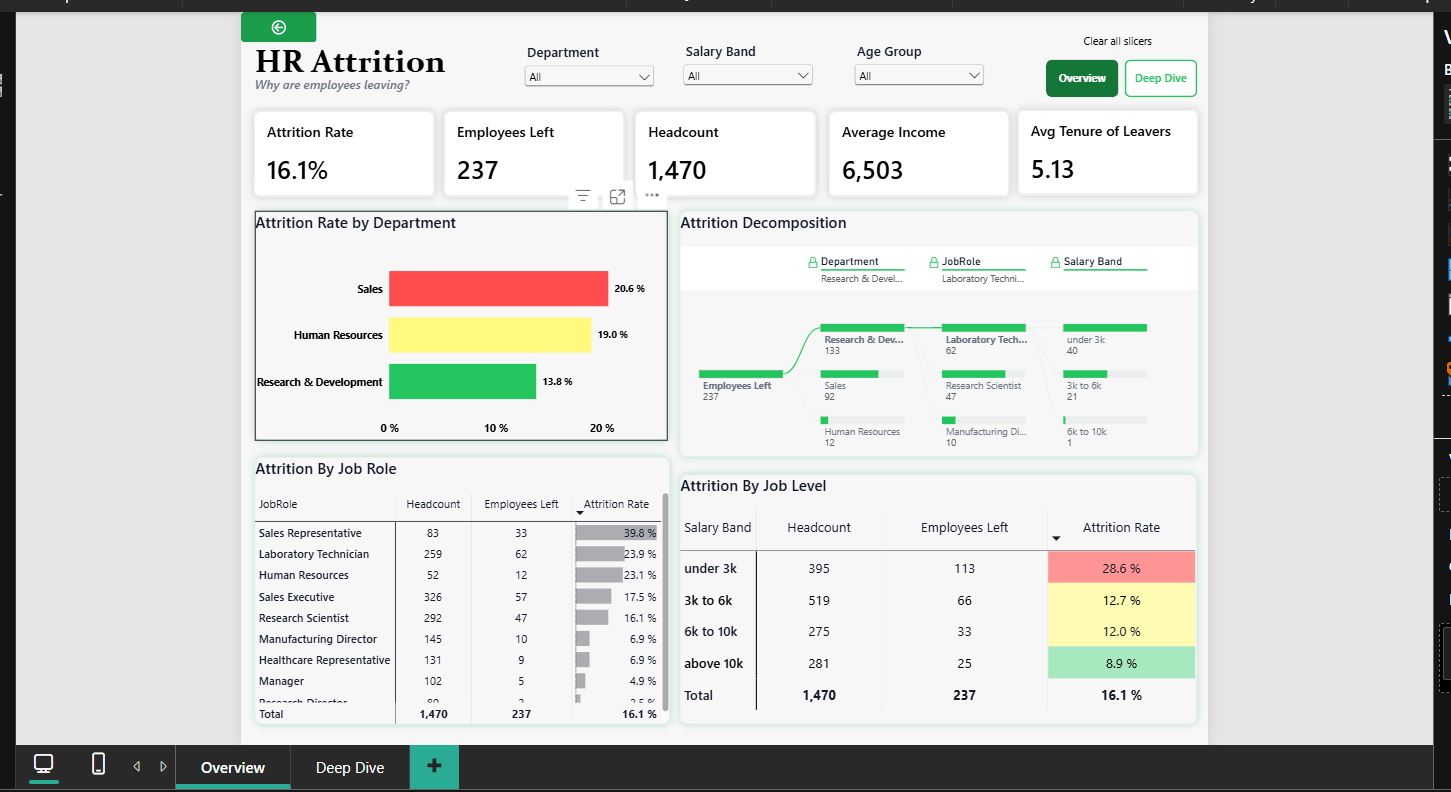

What the dashboard file says about the page in this screenshot:
{"tool":"powerbi","page":{"name":"Overview","canvas":[1280,970],"ordinal":0},"visuals":[{"type":"textbox","box":[18,38,326,70],"z":0},{"type":"textbox","box":[18.4,84.4,279,150],"z":1000},{"type":"slicer","fields":{"Values":["HR_employees.Salary Band"]},"box":[580,40,181,70.6],"z":2000},{"type":"slicer","fields":{"Values":["HR_employees.Department"]},"box":[370,42,181,70.6],"z":3000},{"type":"slicer","fields":{"Values":["HR_employees.Age Group_"]},"box":[806,40,181,70.6],"z":4000},{"type":"actionButton","box":[1056.8,21.5,206.2,33.8],"z":5000},{"type":"pageNavigator","box":[1064.4,62.9,200,50],"z":6000},{"type":"cardVisual","fields":{"Data":["HR_employees.Attrition Rate"]},"box":[16.7,130,240,114],"z":7000},{"type":"cardVisual","fields":{"Data":["HR_employees.Headcount"]},"box":[520,130,240,114],"z":8000},{"type":"cardVisual","fields":{"Data":["HR_employees.Employees Left"]},"box":[267.5,130,240,114],"z":9000},{"type":"cardVisual","fields":{"Data":["HR_employees.Avg Tenure of Leavers"]},"box":[1026.7,128.3,240,113.3],"z":10000},{"type":"cardVisual","fields":{"Data":["HR_employees.Avg Monthly Income"]},"box":[776.2,131.2,240,114],"z":11000},{"type":"clusteredBarChart","fields":{"Category":["HR_employees.Department"],"Y":["HR_employees.Attrition Rate"]},"box":[18.2,262.8,547.2,304.4],"z":13000},{"type":"decompositionTreeVisual","title":"Attrition Decomposition","fields":{"Analyze":["HR_employees.Employees Left"],"ExplainBy":["HR_employees.Department","HR_employees.JobRole","HR_employees.Salary Band"]},"box":[580.2,262.8,686,325.6],"z":14000},{"type":"pivotTable","title":"Attrition By Job Role","fields":{"Rows":["HR_employees.JobRole"],"Values":["HR_employees.Headcount","HR_employees.Employees Left","HR_employees.Attrition Rate"]},"box":[18.2,588.5,548.8,353.8],"z":15000},{"type":"pivotTable","title":"Attrition By Job Level","fields":{"Rows":["HR_employees.Salary Band"],"Values":["HR_employees.Headcount","HR_employees.Employees Left","HR_employees.Attrition Rate"]},"box":[580.2,611.6,684.4,330.6],"z":16000},{"type":"actionButton","box":[0,0,100,40],"z":17000}]}

Visuals, with their boxes on the page's 1280x970 design canvas (x1, y1, x2, y2). These are canvas units, not pixel positions in the 1451x792 screenshot, which may show the page scaled, cropped or inside an application window:
textbox: (x1=18, y1=38, x2=344, y2=108)
textbox: (x1=18, y1=84, x2=297, y2=234)
slicer - HR_employees.Salary Band: (x1=580, y1=40, x2=761, y2=111)
slicer - HR_employees.Department: (x1=370, y1=42, x2=551, y2=113)
slicer - HR_employees.Age Group_: (x1=806, y1=40, x2=987, y2=111)
actionButton: (x1=1057, y1=22, x2=1263, y2=55)
pageNavigator: (x1=1064, y1=63, x2=1264, y2=113)
cardVisual - HR_employees.Attrition Rate: (x1=17, y1=130, x2=257, y2=244)
cardVisual - HR_employees.Headcount: (x1=520, y1=130, x2=760, y2=244)
cardVisual - HR_employees.Employees Left: (x1=268, y1=130, x2=508, y2=244)
cardVisual - HR_employees.Avg Tenure of Leavers: (x1=1027, y1=128, x2=1267, y2=242)
cardVisual - HR_employees.Avg Monthly Income: (x1=776, y1=131, x2=1016, y2=245)
clusteredBarChart - HR_employees.Department x HR_employees.Attrition Rate: (x1=18, y1=263, x2=565, y2=567)
"Attrition Decomposition" decompositionTreeVisual: (x1=580, y1=263, x2=1266, y2=588)
"Attrition By Job Role" pivotTable: (x1=18, y1=588, x2=567, y2=942)
"Attrition By Job Level" pivotTable: (x1=580, y1=612, x2=1265, y2=942)
actionButton: (x1=0, y1=0, x2=100, y2=40)
